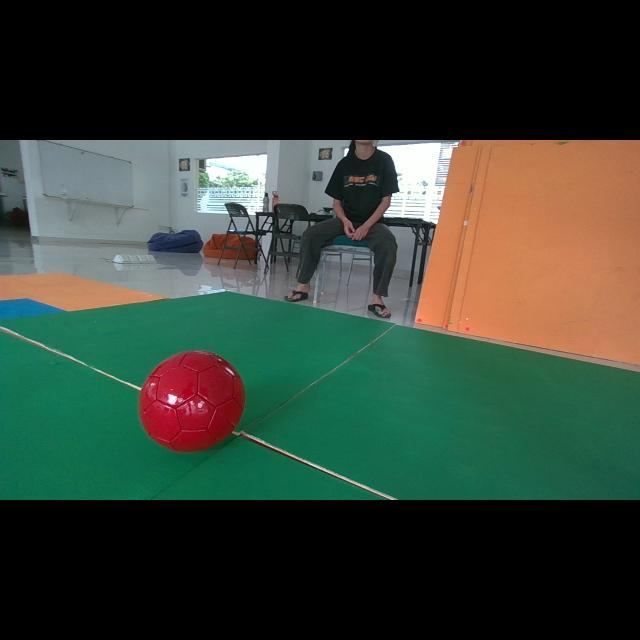R: (139, 350, 245, 452)
